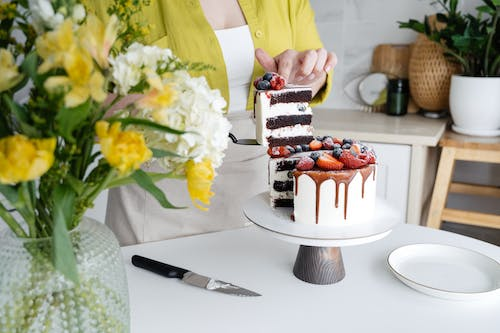knife: (130, 253, 263, 297)
